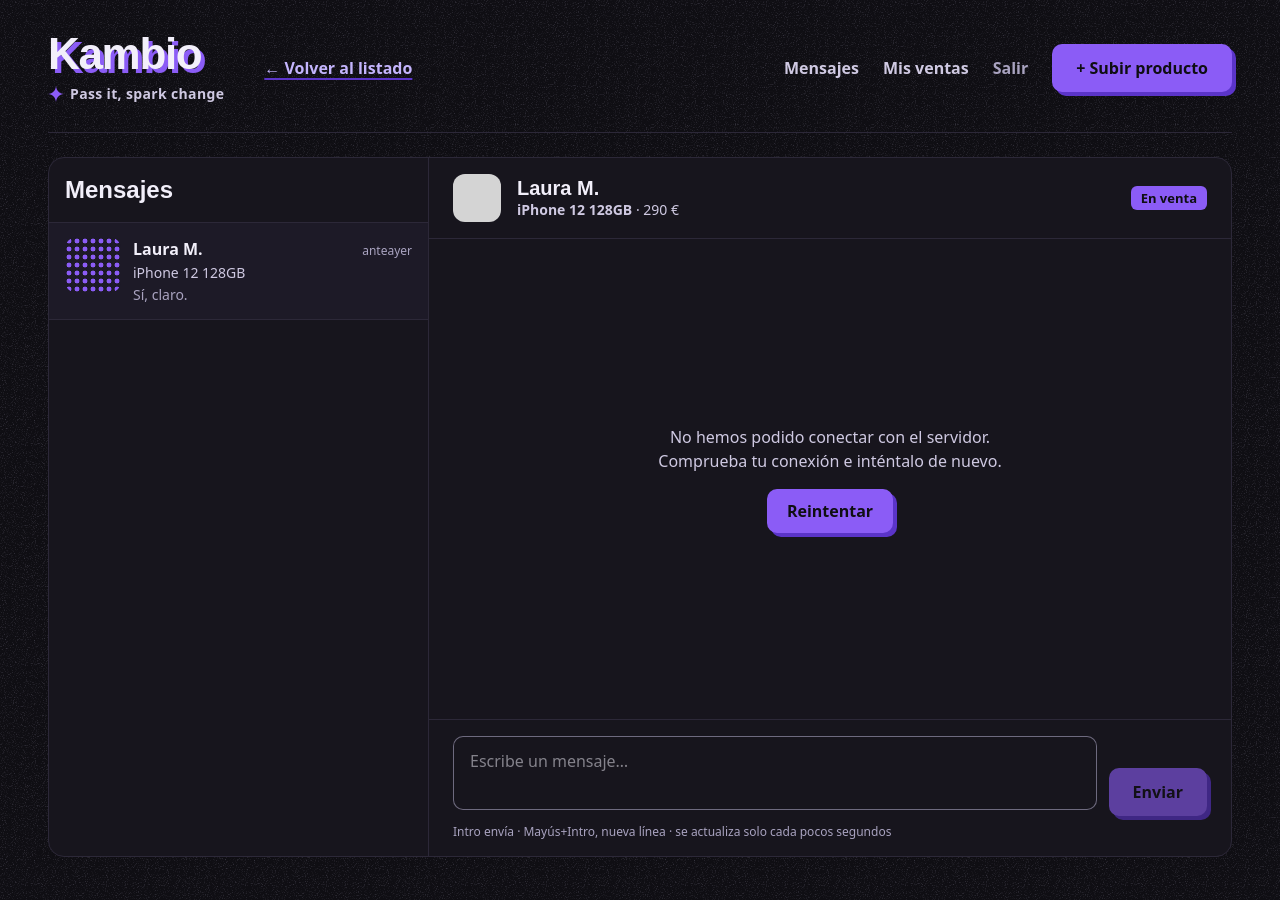
Test: ChatPage › si envías antes de que cargue el historial y la carga falla, al recuperarse aparece el historial completo
Expected: the message is shown, x1=638 y1=425 x2=1022 y2=533
Step 1. Type "Escribo mientras carga" into the text box labelled "Escribe un mensaje…" → (775, 773), box x1=453 y1=736 x2=1097 y2=810
Then press Enter
Wait 3000 ms
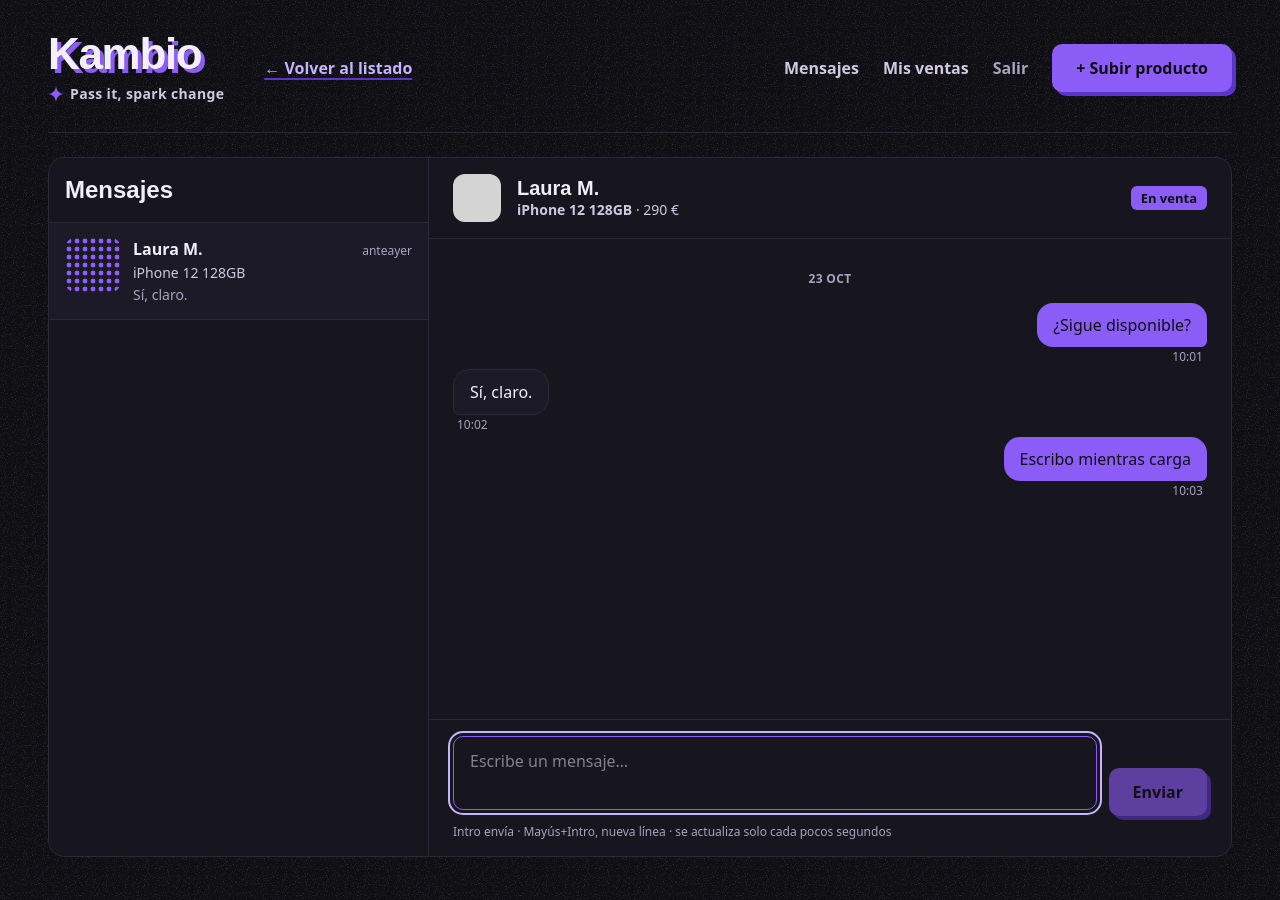
Expected: the text "¿Sigue disponible?" is shown, x1=1037 y1=303 x2=1207 y2=347
Expected: the text "Escribo mientras carga" is shown once, x1=1004 y1=437 x2=1207 y2=481
